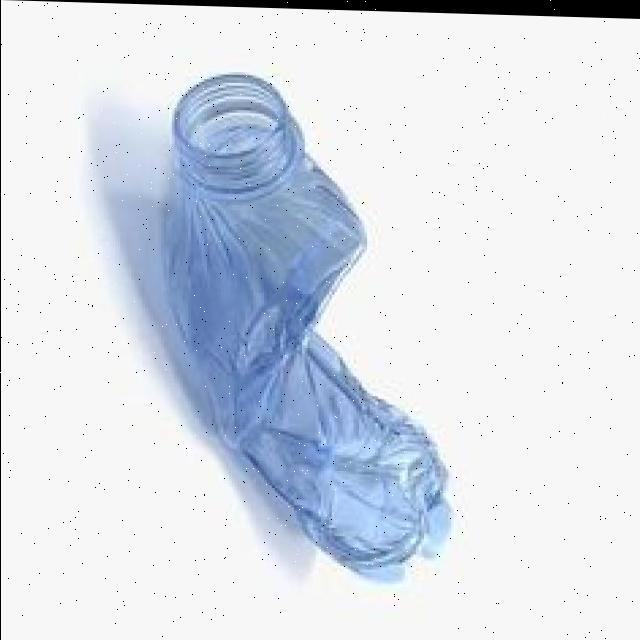bottle: (86, 11, 542, 618)
